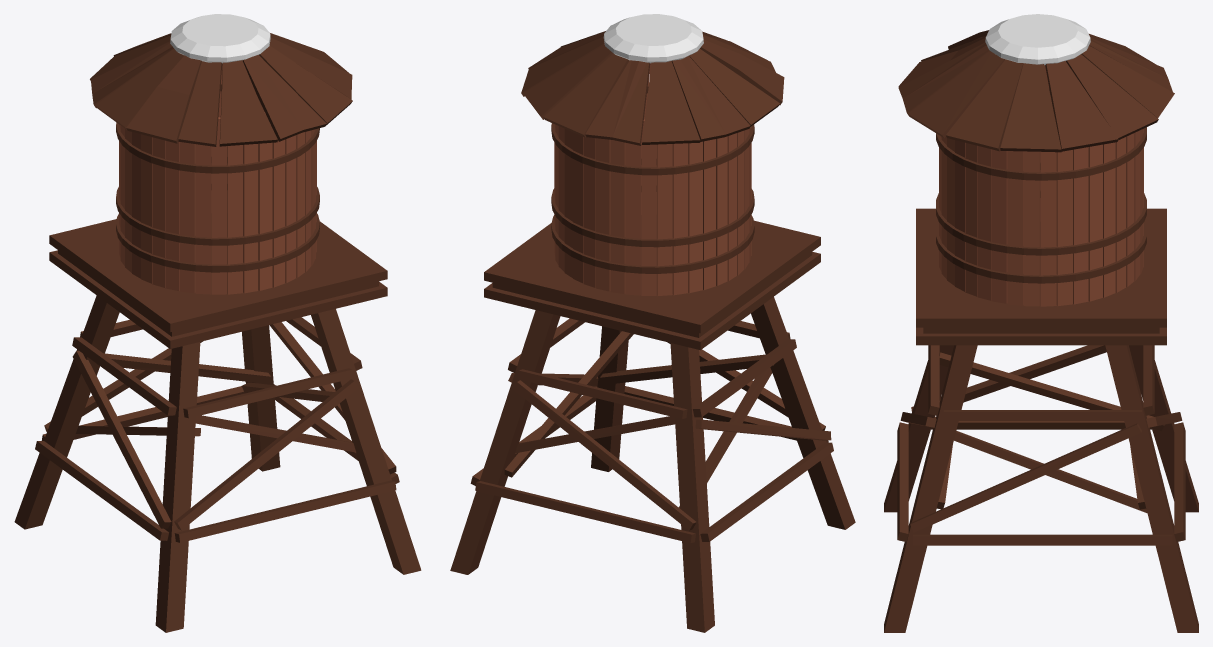
Rendered from Watertower.fbx.
3 renders of one model, left to right at view 1: azimuth 30°, elevation 25°; view 2: azimuth 150°, elevation 25°; view 3: azimuth 270°, elevation 25°, orthographic. The views are drawn at different scales.
Parts seen in each view (by area): view 1: Watertank; view 2: Watertank; view 3: Watertank.
Part boxes in pixels (x1=…): Watertank: x1=14, y1=14, x2=421, y2=632; Watertank: x1=450, y1=14, x2=855, y2=632; Watertank: x1=884, y1=14, x2=1198, y2=632.
Size of the model in its own units: 501 by 968 by 514.
